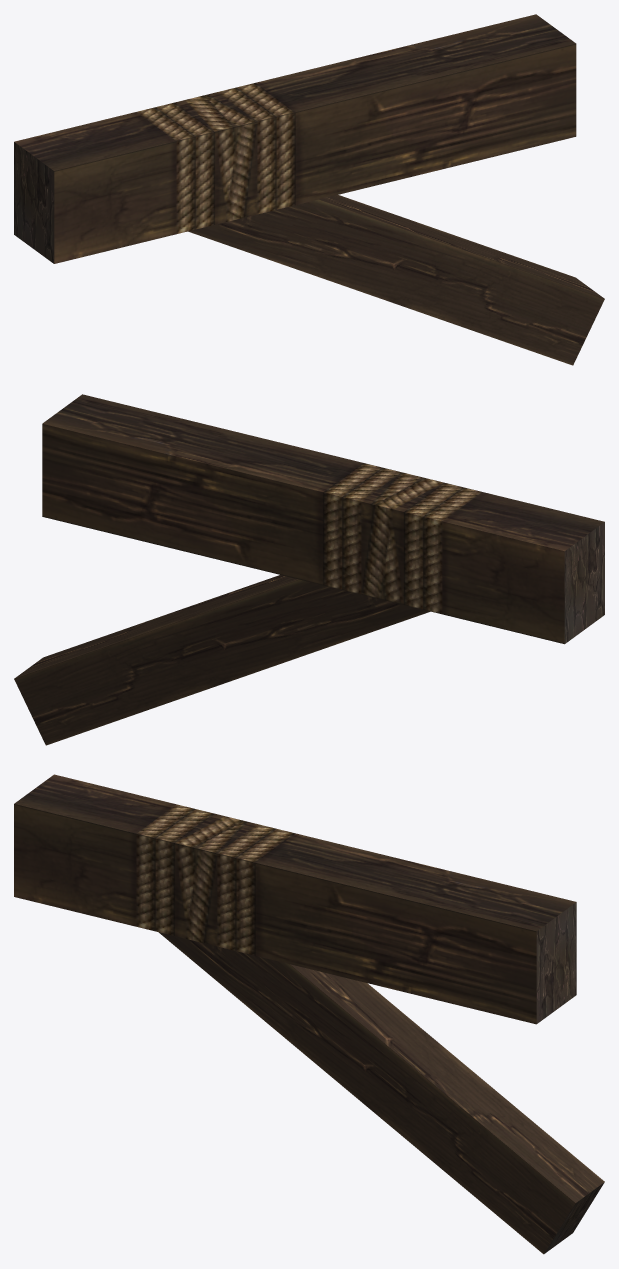
The model's file is A_mutou_016.fbx.
3 renders of one model, top to bottom at view 1: azimuth 30°, elevation 25°; view 2: azimuth 150°, elevation 25°; view 3: azimuth 330°, elevation 25°, orthographic.
Visible parts, largest first — view 1: pasted__A_mutou_016; view 2: pasted__A_mutou_016; view 3: pasted__A_mutou_016.
Part boxes in pixels (box(x1,y1,x2,y2)): pasted__A_mutou_016: box(14, 14, 604, 365); pasted__A_mutou_016: box(14, 394, 604, 745); pasted__A_mutou_016: box(14, 774, 604, 1254).
Size of the model in its own units: 302 by 169 by 37.75.
